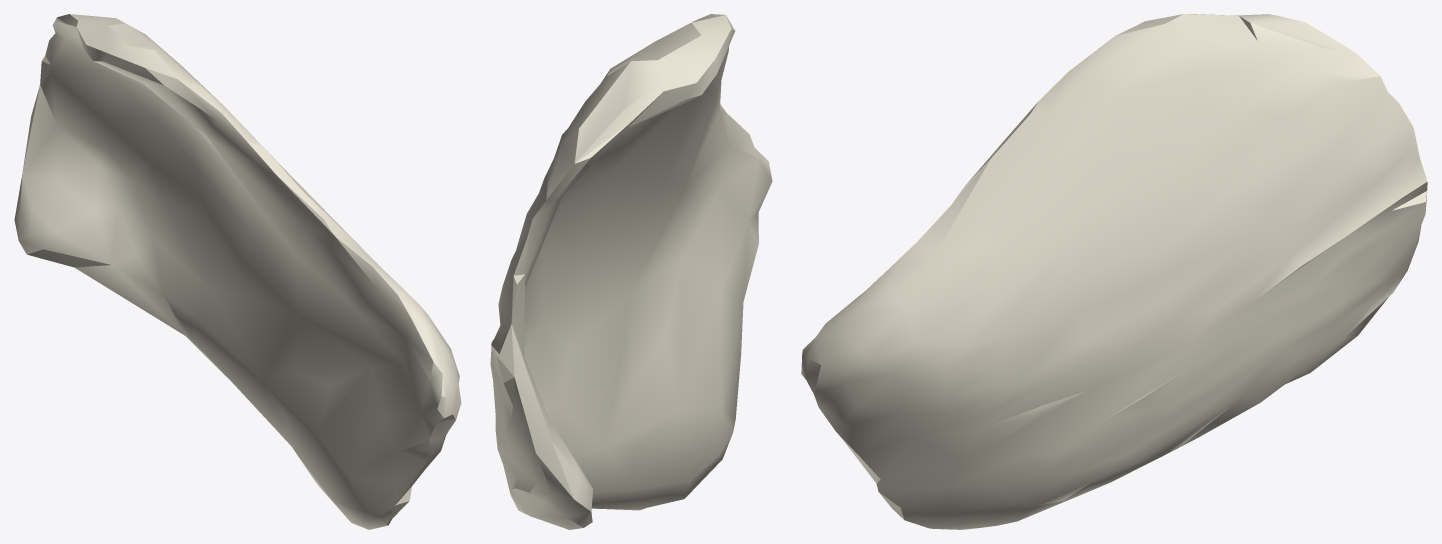
The model's file is fma326796-l_mm1454.glb.
3 views of the same model, side by side, from view 1: azimuth 30°, elevation 25°; view 2: azimuth 150°, elevation 25°; view 3: azimuth 270°, elevation 25° (orthographic). The views are drawn at different scales.
Visible parts, largest first — view 1: FMA326796-L_MM1454; view 2: FMA326796-L_MM1454; view 3: FMA326796-L_MM1454.
Part boxes in pixels (left/top/right/bottom): FMA326796-L_MM1454: left=14, top=14, right=461, bottom=529; FMA326796-L_MM1454: left=490, top=14, right=772, bottom=529; FMA326796-L_MM1454: left=801, top=14, right=1427, bottom=529.
Size of the model in its own units: 0.00264 by 0.00563 by 0.00701.
